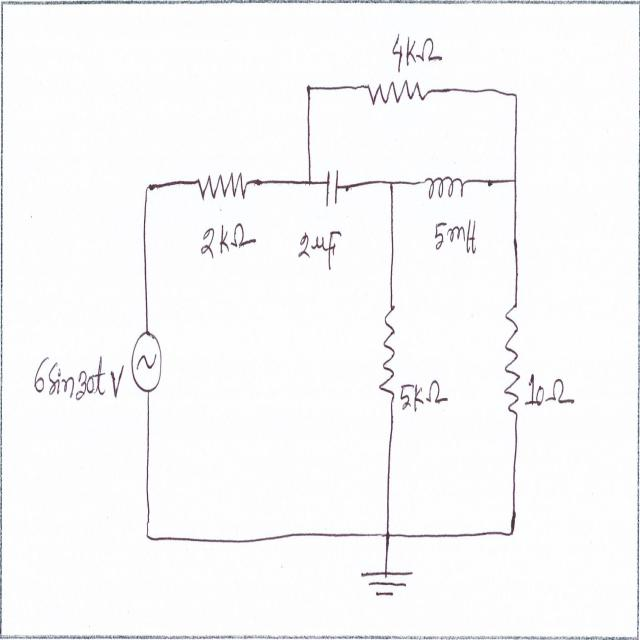ac_current: (130, 319, 162, 399)
capacitor: (323, 165, 342, 211)
ground: (359, 564, 414, 604)
inductor: (419, 171, 469, 211)
resistor: (498, 297, 523, 422), (196, 159, 250, 216), (364, 69, 427, 117), (377, 306, 399, 410)
